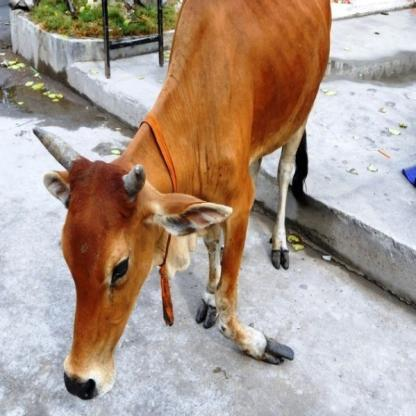cow: (29, 0, 338, 401)
injured: (208, 194, 300, 389)
